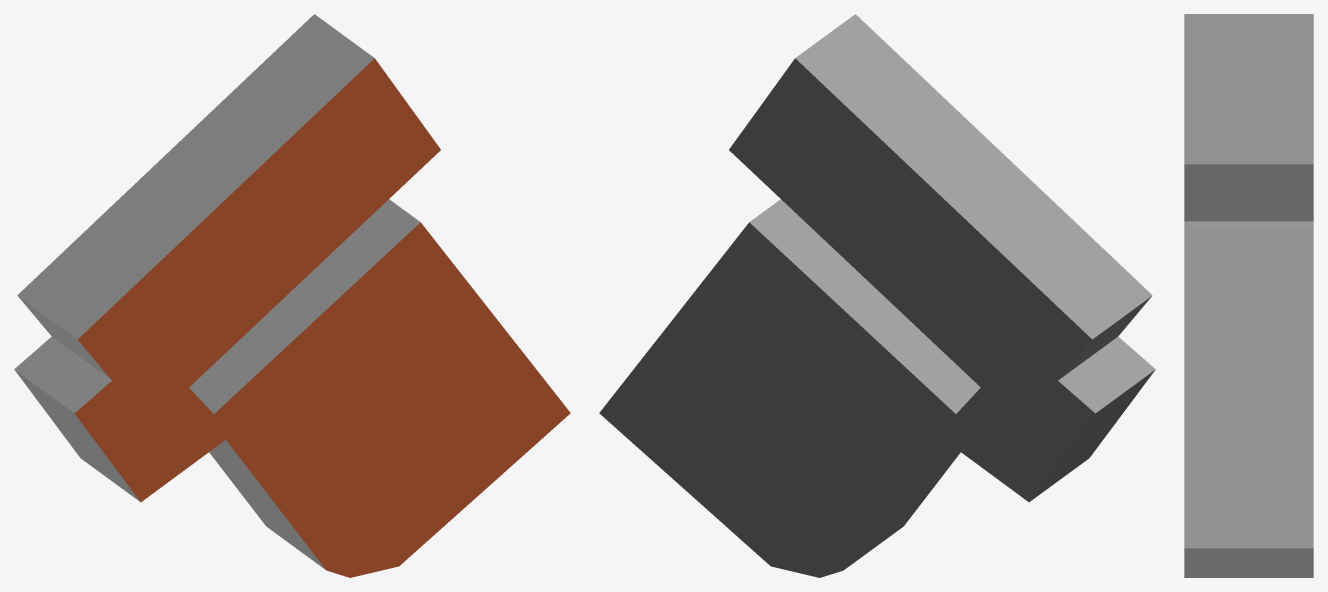
File: construction_1492_assumed_A_Casa_h6m.obj
The picture shows the model from 3 angles, left to right: view 1: azimuth 30°, elevation 25°; view 2: azimuth 150°, elevation 25°; view 3: azimuth 270°, elevation 25°; orthographic projection. The views are drawn at different scales.
Visible parts, largest first — view 1: construction_1492_assumed_A_Casa; view 2: construction_1492_assumed_A_Casa; view 3: construction_1492_assumed_A_Casa.
Part boxes in pixels (x1,y1,x2,y2): construction_1492_assumed_A_Casa: (14,14,570,577); construction_1492_assumed_A_Casa: (599,14,1155,577); construction_1492_assumed_A_Casa: (1184,14,1313,577).
Bounding box in the file's own units: 28.49 × 28.2 × 6.
